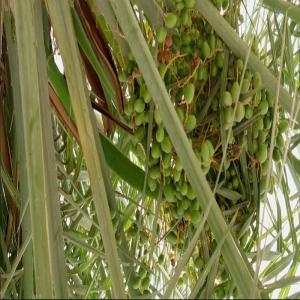palm tree: (1, 0, 298, 299)
